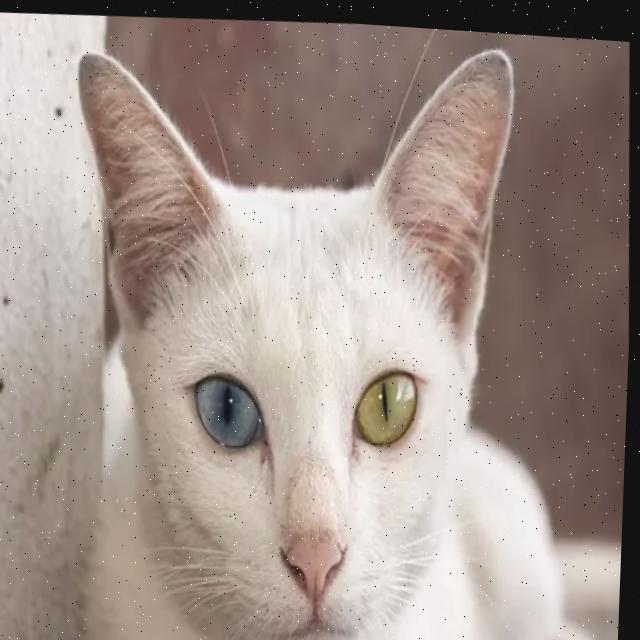Khao Manee: (54, 7, 635, 640)
